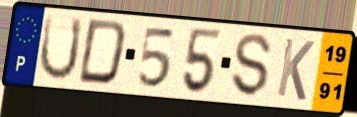5: (180, 25, 223, 96), (136, 25, 178, 89)
D: (75, 17, 129, 88)
K: (274, 35, 317, 104)
S: (230, 32, 274, 100)
U: (36, 13, 86, 83)
